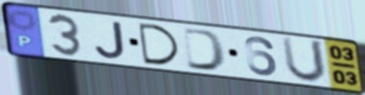3: (47, 13, 83, 58)
6: (243, 35, 280, 78)
D: (180, 26, 229, 73), (135, 21, 183, 67)
J: (93, 20, 128, 61)
U: (280, 35, 329, 85)
